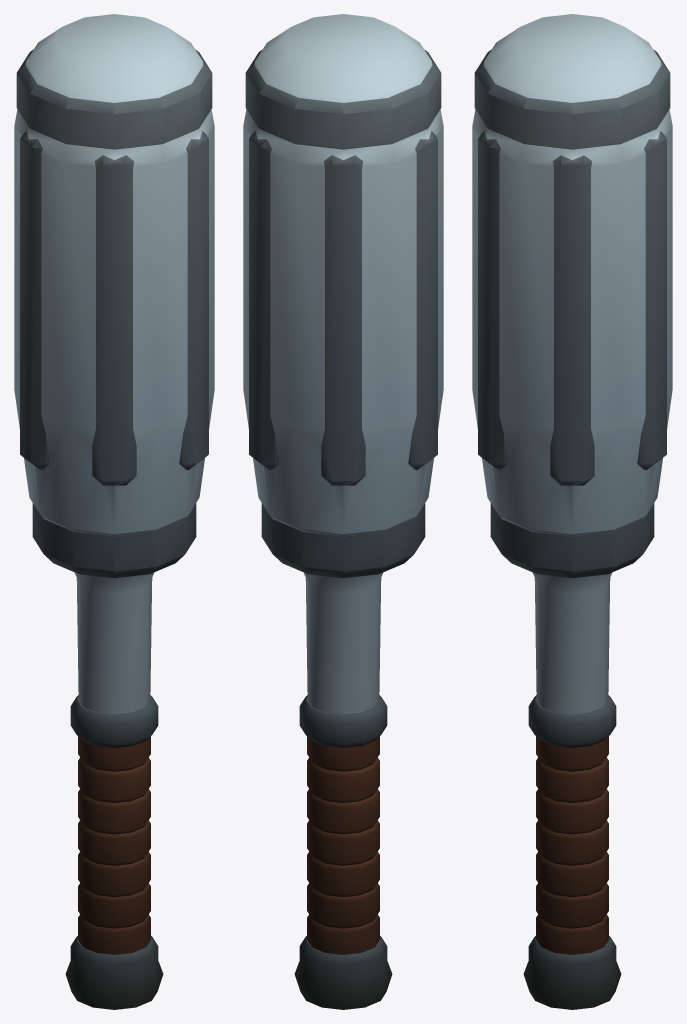
The model's file is club_steel.glb.
3 renders of one model, left to right at view 1: azimuth 30°, elevation 25°; view 2: azimuth 150°, elevation 25°; view 3: azimuth 270°, elevation 25°, orthographic.
Parts seen in each view (by area): view 1: Item; view 2: Item; view 3: Item.
Part boxes in pixels (x1,y1,x2,y2): Item: (14,14,214,1009); Item: (243,14,443,1009); Item: (472,14,672,1009).
Size of the model in its own units: 0.255 by 1.32 by 0.25.
2 materials, 2 textured.
